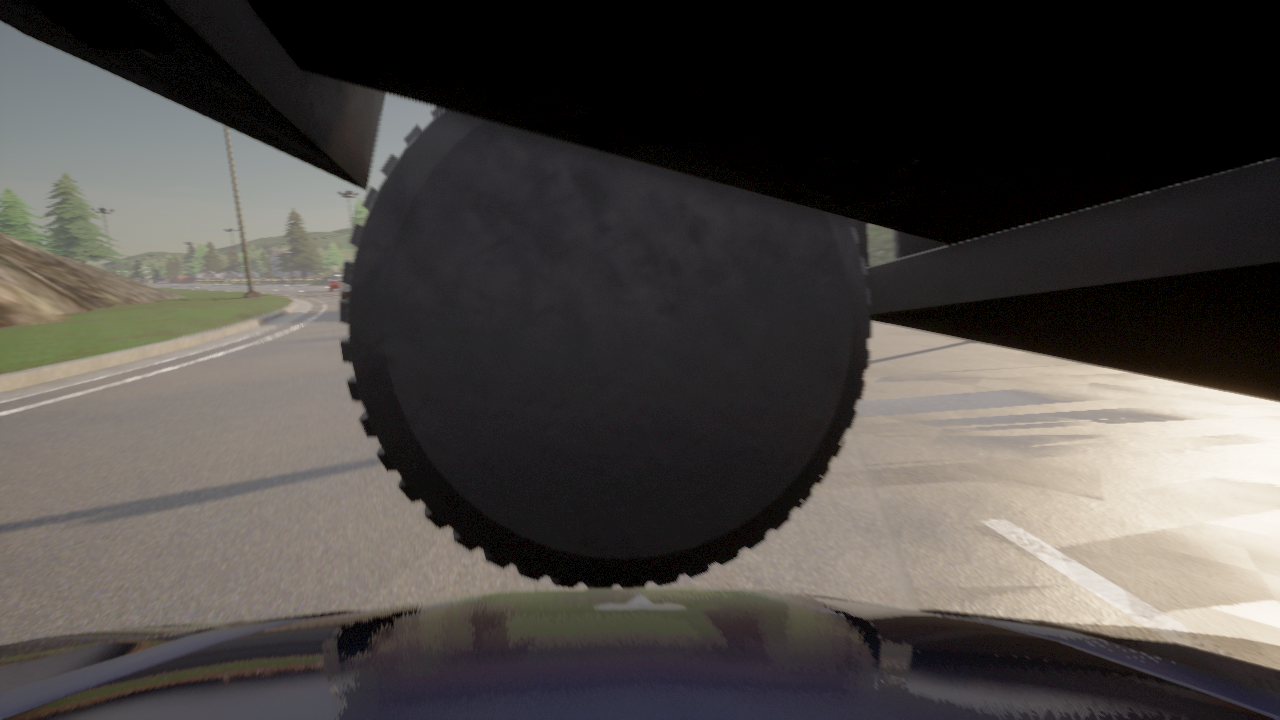cyclist: (0, 588, 1279, 719), (337, 278, 348, 299), (329, 275, 341, 290)
